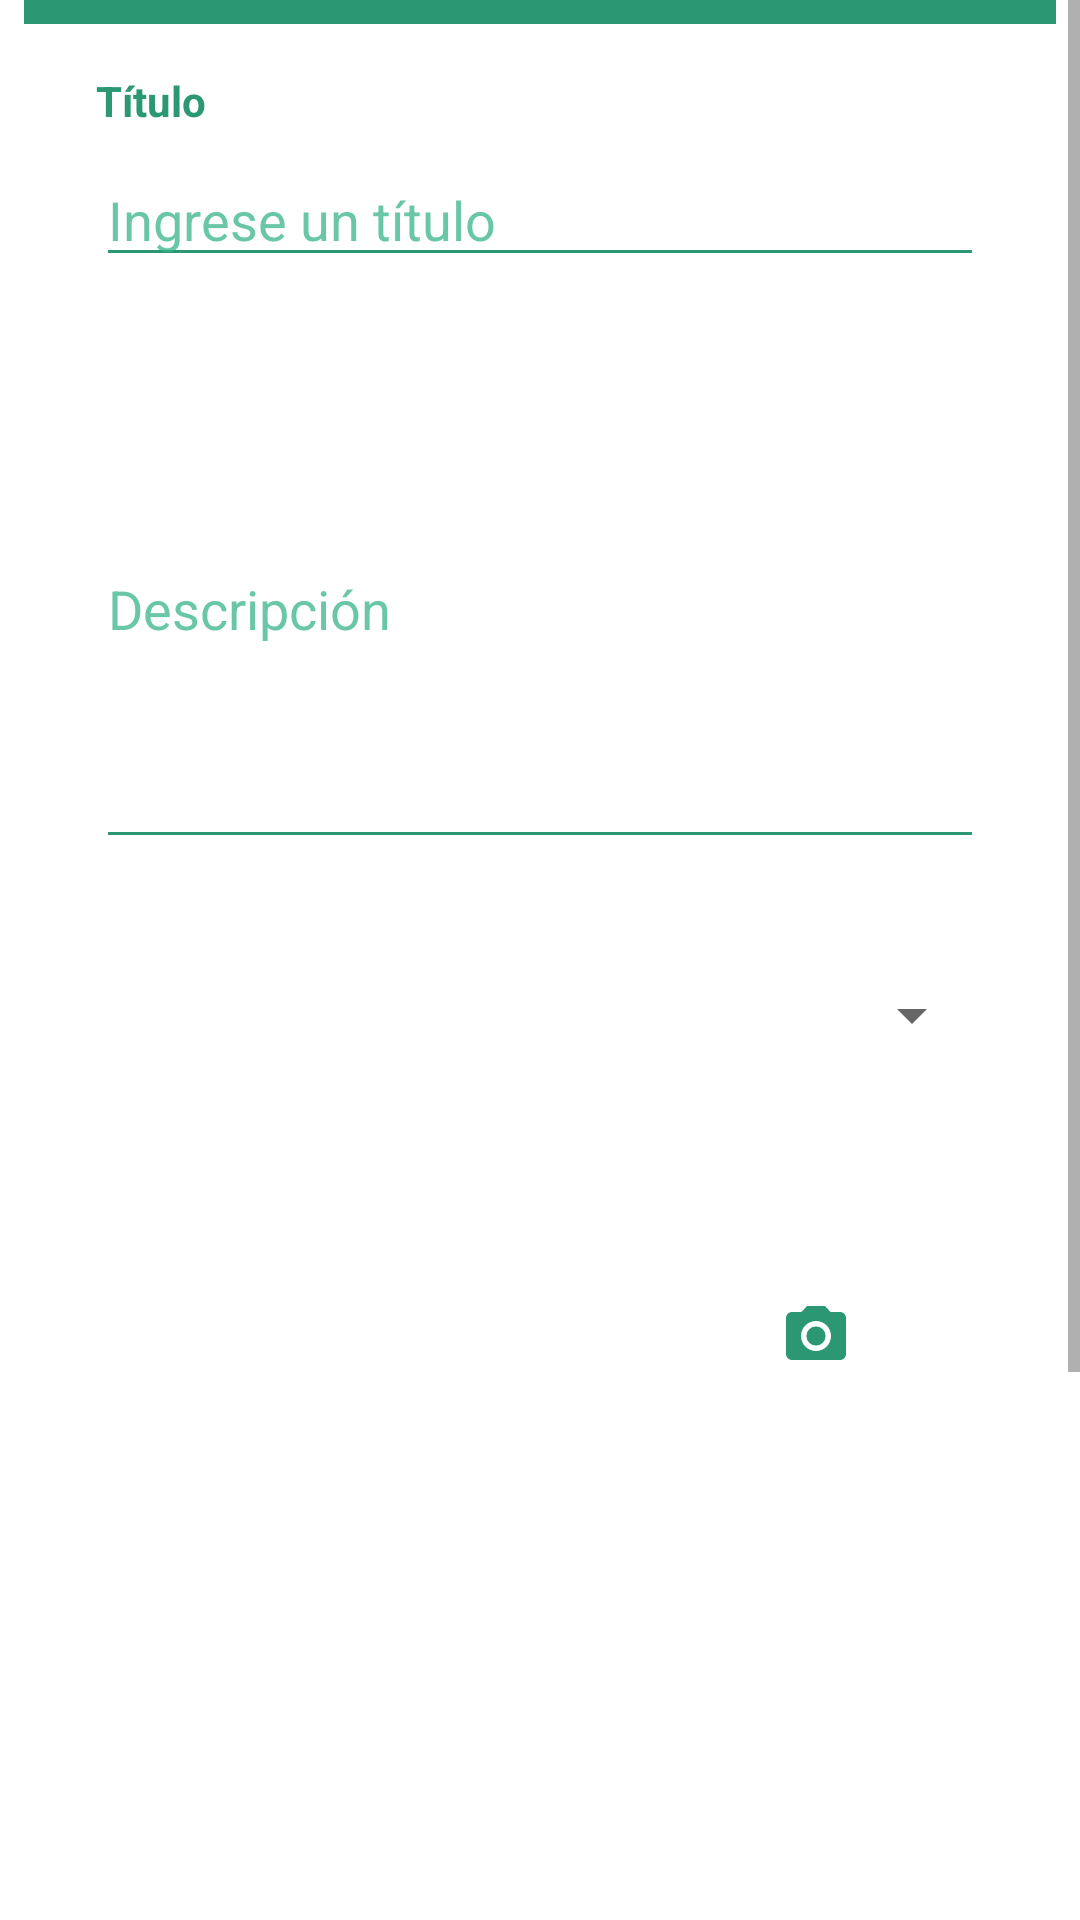

Point at icon controls on the screen. Image size 1080 x 1920, points as (x=x, y=y).
camera: (x=816, y=1333)
